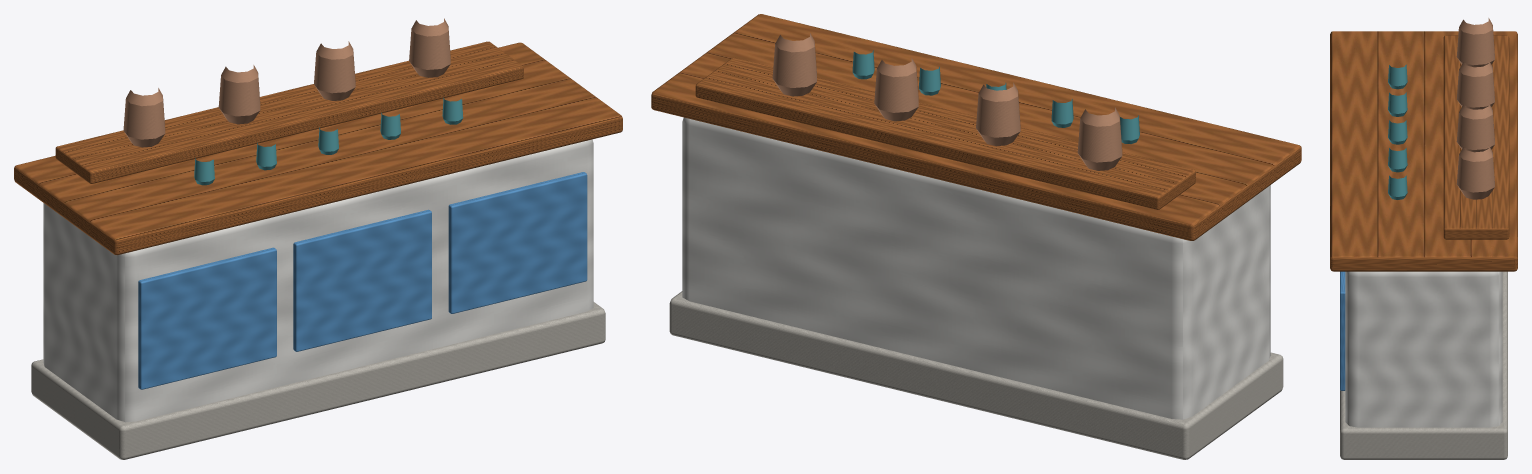
File: greek-island-village-and-harbour-taverna-serving-count-e0abad5f__37084.glb
3 renders of one model, left to right at view 1: azimuth 30°, elevation 25°; view 2: azimuth 150°, elevation 25°; view 3: azimuth 270°, elevation 25°, orthographic. The views are drawn at different scales.
Visible parts, largest first — view 1: taverna-serving-counter; view 2: taverna-serving-counter; view 3: taverna-serving-counter.
Part boxes in pixels (x1,y1,x2,y2): taverna-serving-counter: [14, 18, 622, 459]; taverna-serving-counter: [651, 14, 1301, 459]; taverna-serving-counter: [1330, 18, 1517, 459].
Size of the model in its own units: 2.46 by 1.36 by 0.8601.
Materials: 6 (5 with a texture image).
